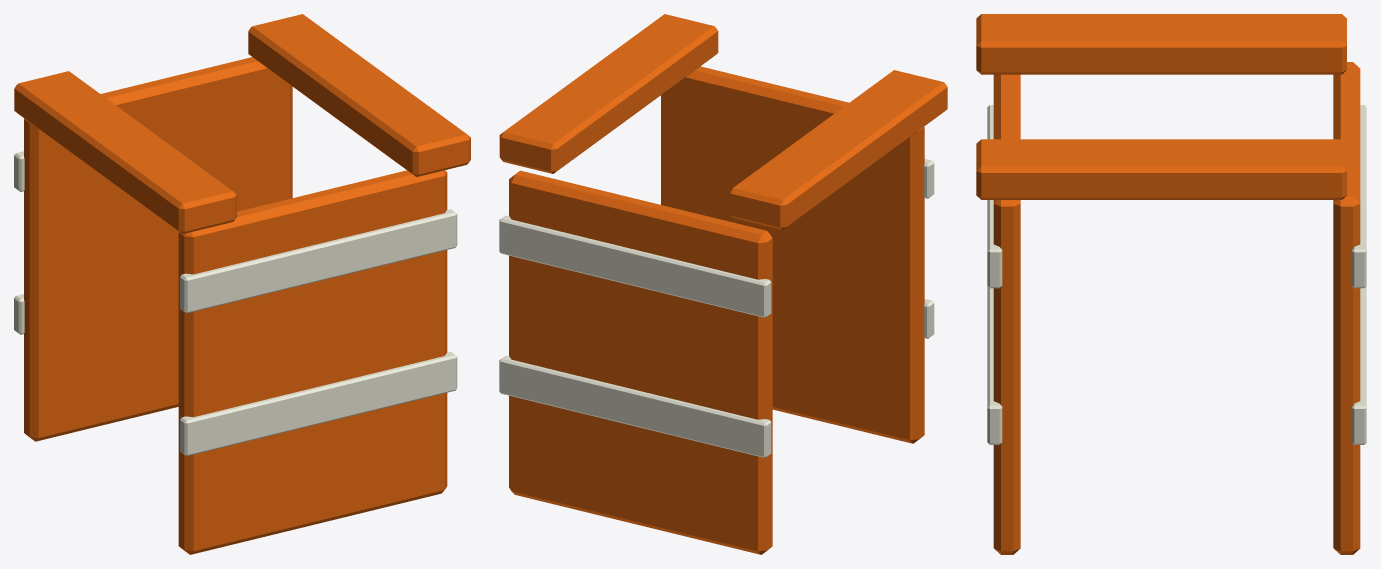
The model's file is npc_vest_orange.glb.
3 renders of one model, left to right at view 1: azimuth 30°, elevation 25°; view 2: azimuth 150°, elevation 25°; view 3: azimuth 270°, elevation 25°, orthographic. The views are drawn at different scales.
Parts seen in each view (by area): view 1: part.npc_vest_orange; view 2: part.npc_vest_orange; view 3: part.npc_vest_orange.
Boxes of the visible parts, x1,y1,x2,y2 form: part.npc_vest_orange: [14, 14, 470, 554]; part.npc_vest_orange: [499, 14, 947, 554]; part.npc_vest_orange: [976, 14, 1366, 554].
Size of the model in its own units: 0.3 by 0.355 by 0.316.
